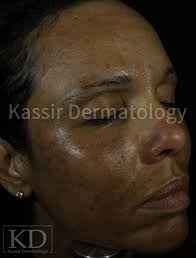Melasma: (39, 132, 138, 194), (60, 25, 127, 80)
